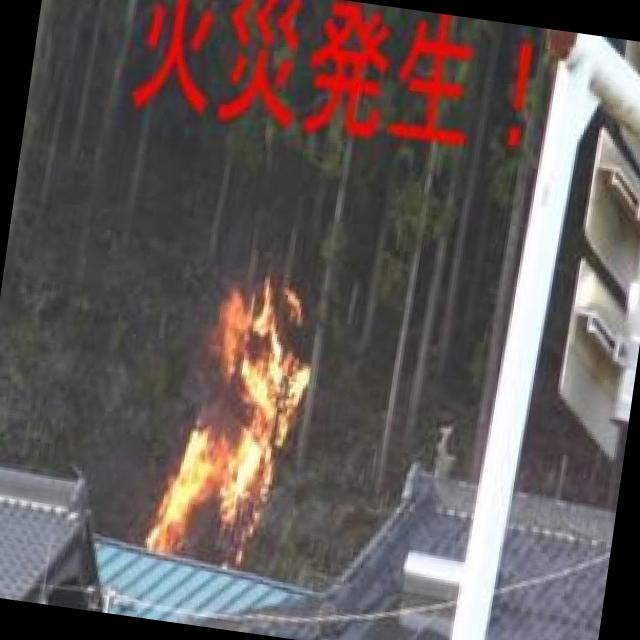Fire: (140, 279, 330, 578)
